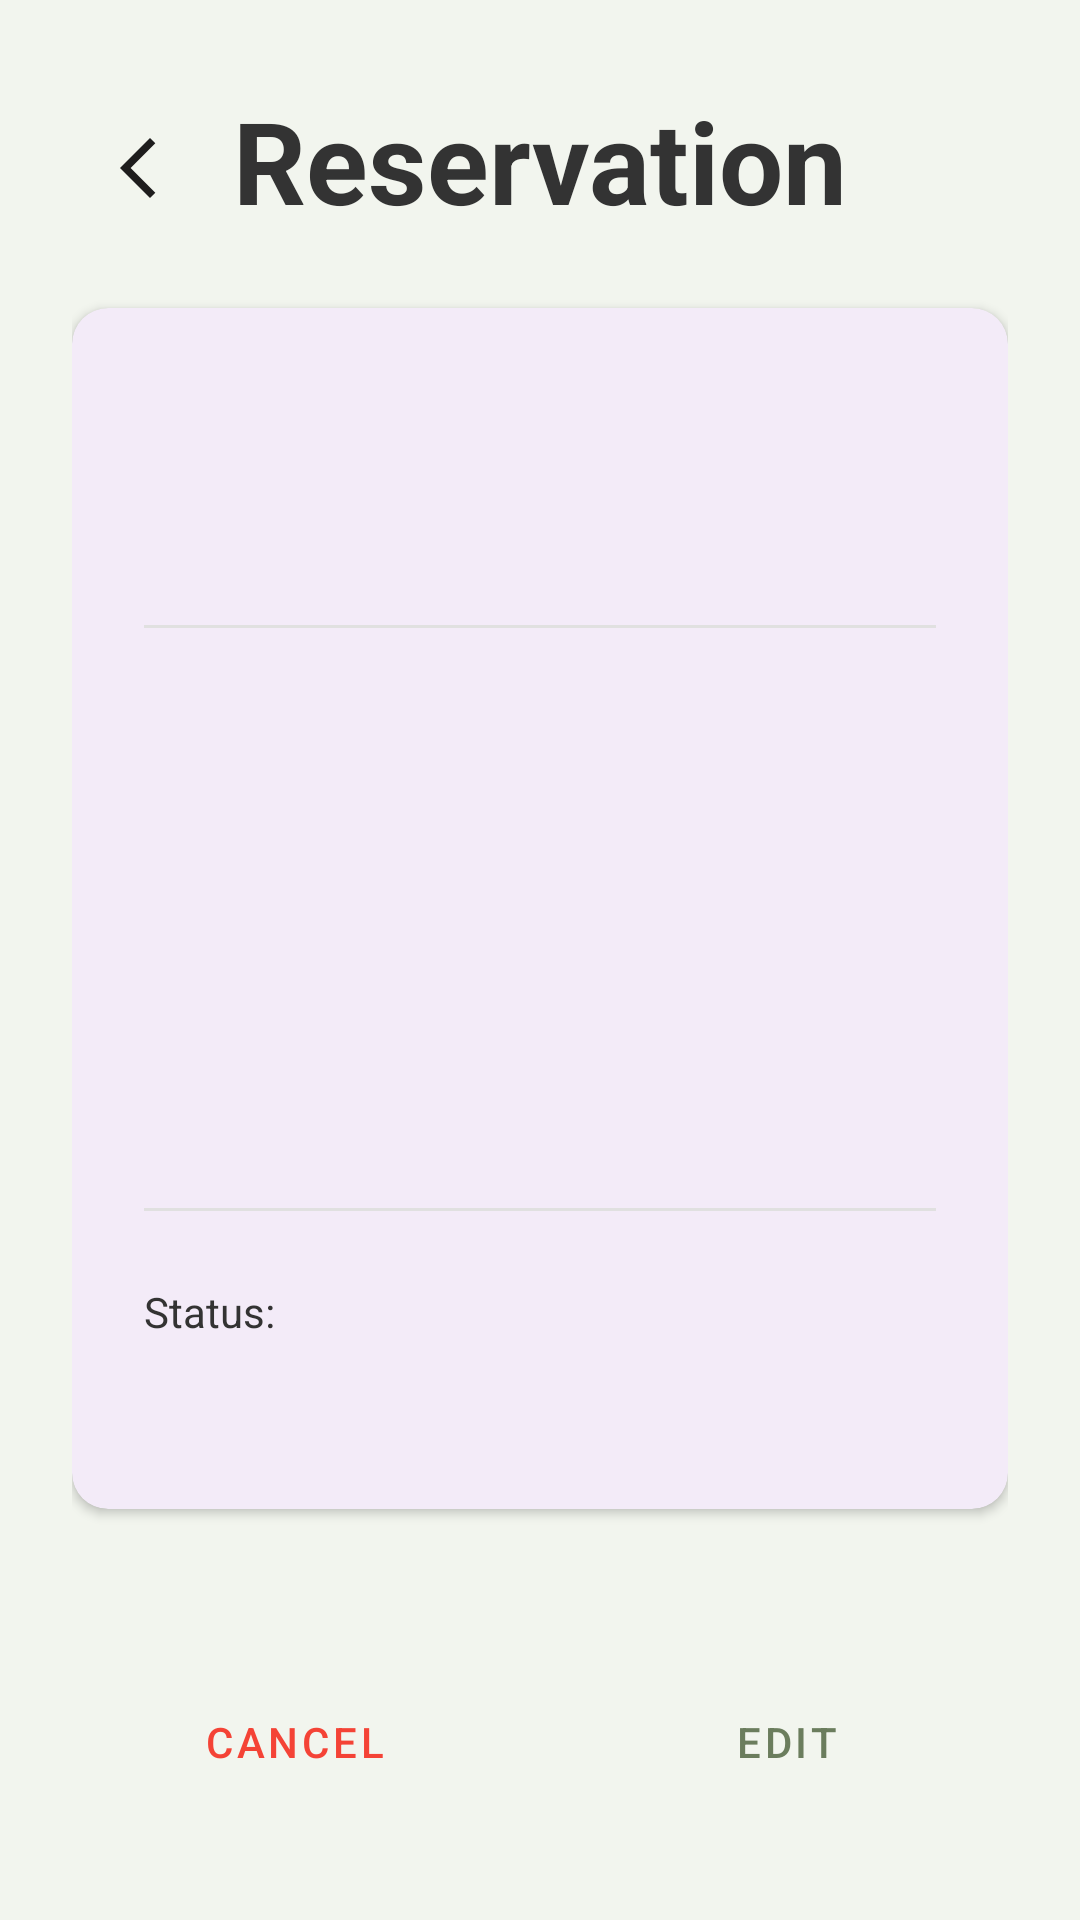

Icon bounding boxes for this 1080w x 1920h phone screenshot, format (x1, y1, x2, y2):
return: (120, 138, 155, 198)
